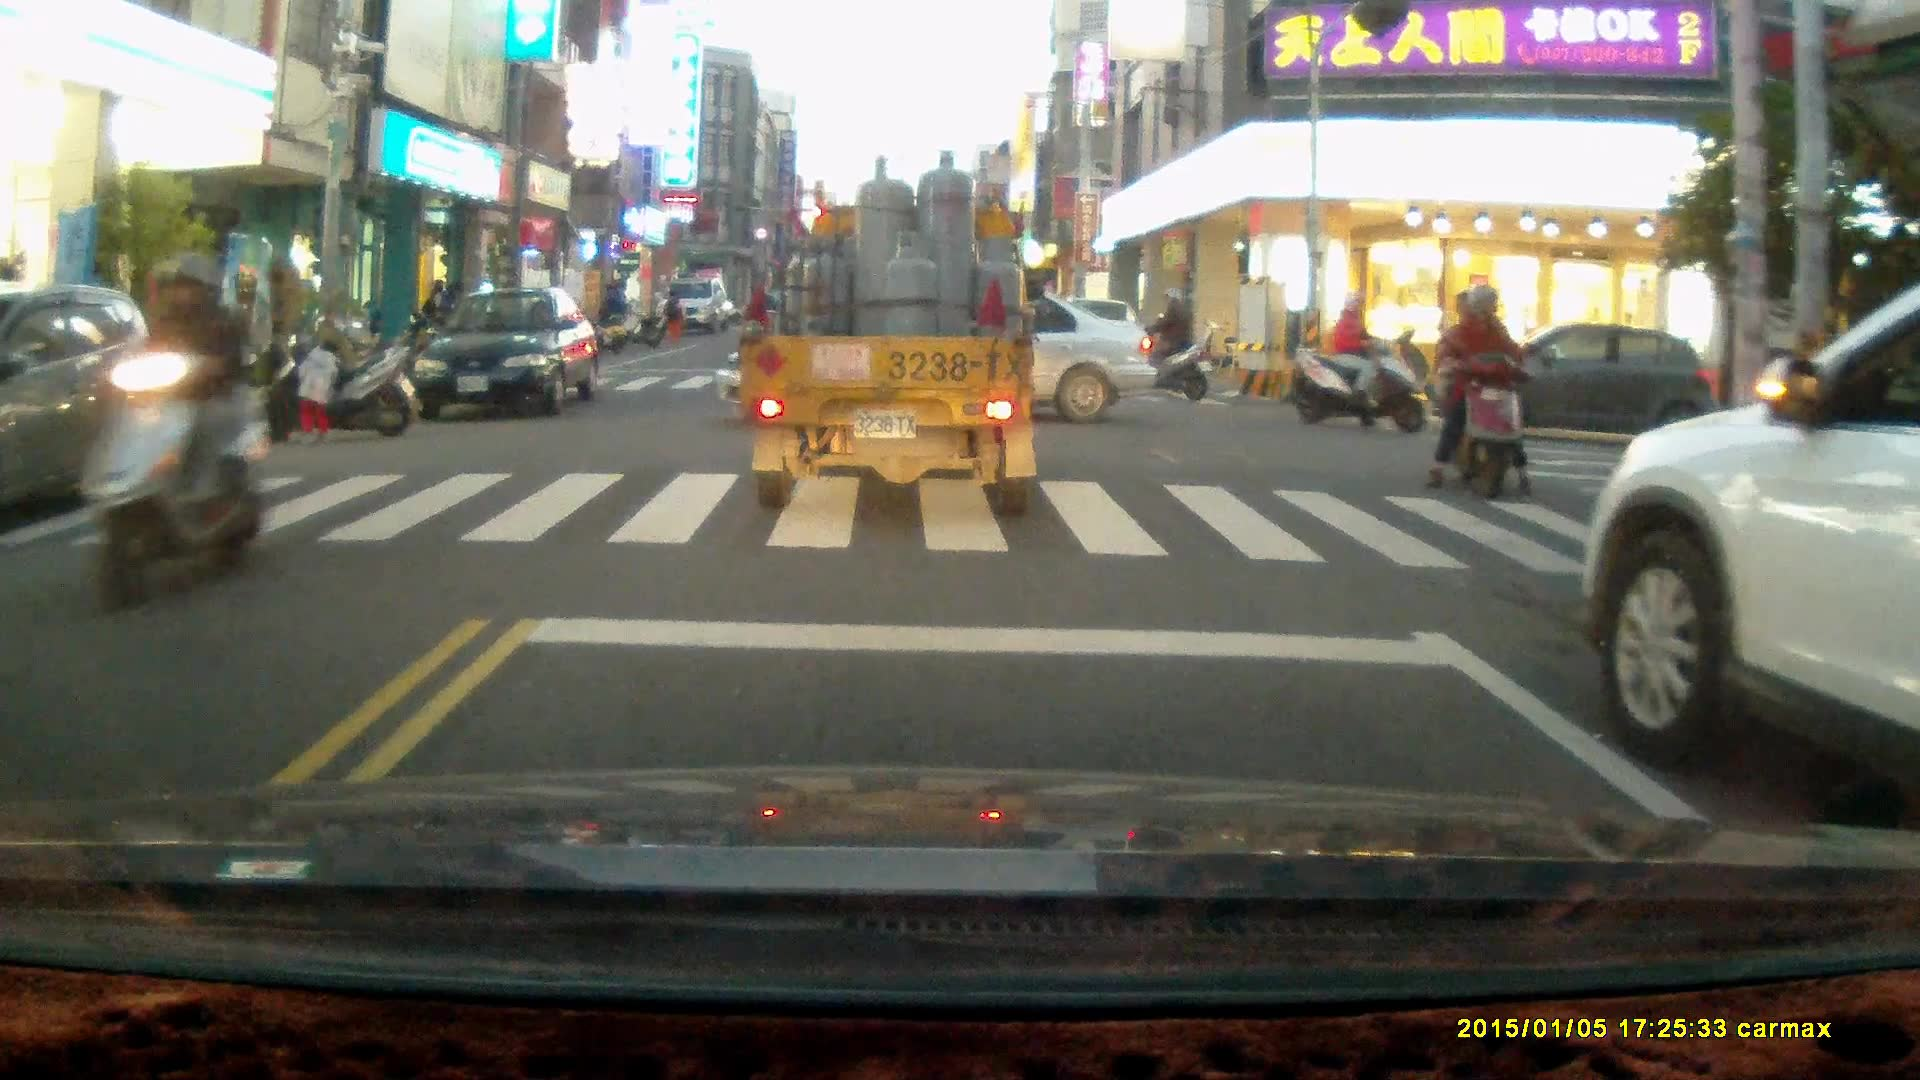pedestrian: (293, 340, 340, 447), (604, 279, 631, 342), (663, 287, 686, 344)
rider: (76, 253, 264, 618), (1425, 285, 1541, 505), (1287, 294, 1425, 432), (1115, 284, 1210, 404)
vehicle: (1575, 285, 1920, 797), (741, 147, 1040, 526), (1452, 324, 1719, 439), (412, 291, 603, 419), (658, 281, 730, 336)
